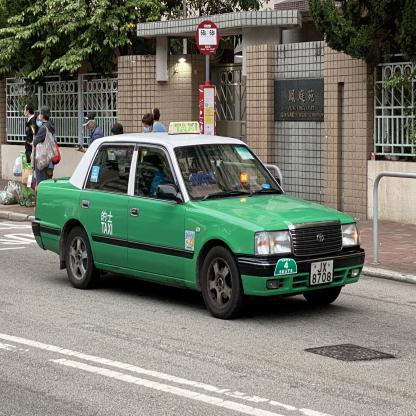taxi: (30, 121, 371, 324)
